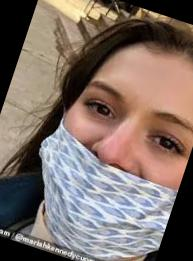mask_weared_incorrect: (25, 63, 193, 261)
